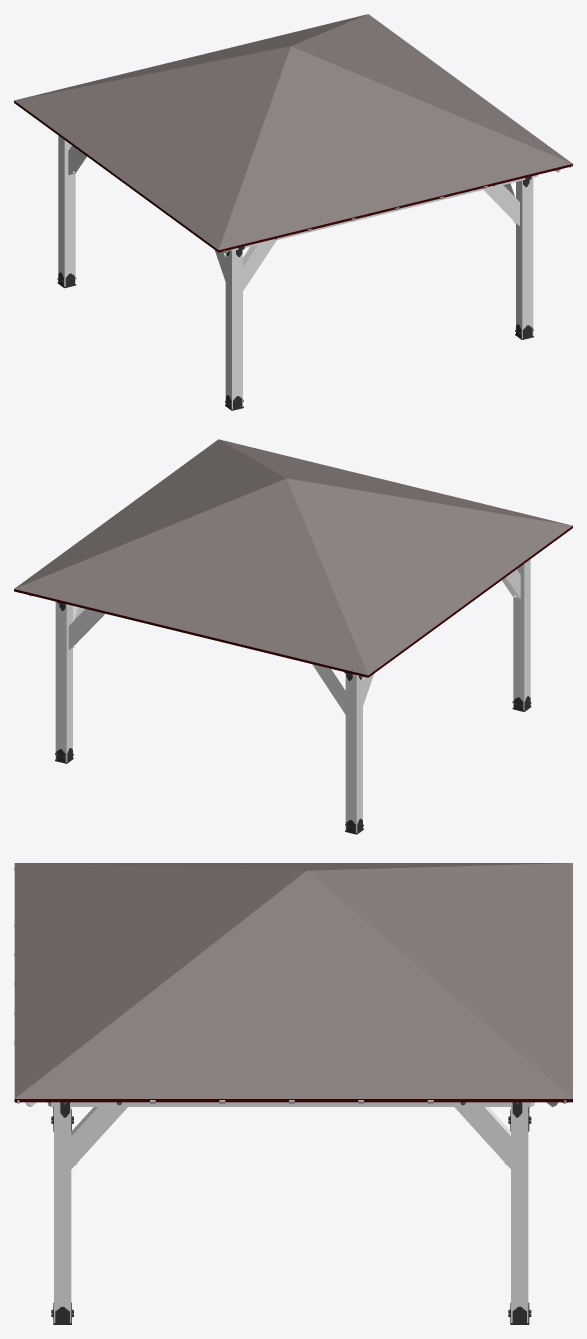
The model's file is saratoga-16x16-cove.obj.
3 views of the same model, one above another, from view 1: azimuth 30°, elevation 25°; view 2: azimuth 150°, elevation 25°; view 3: azimuth 270°, elevation 25° (orthographic). The views are drawn at different scales.
Parts seen in each view (by area): view 1: Mesh226 shingles roof Group1 Model, Mesh177 Group71 Component_92_4 Group2 Group1 Model, Mesh79 Group43 Component_92_2 Group2 Group1 Model, Mesh128 Group57 Component_92_3 Group2 Group1 Model, Mesh227 roof Group1 Model, Mesh75 Component_135_1 Group2 Group1 Model, Mesh217 Component_91_7 Component_92_4 Group2 Group1 Model, Mesh119 Component_91_3 Component_92_2 Group2 Group1 Model; view 2: Mesh226 shingles roof Group1 Model, Mesh128 Group57 Component_92_3 Group2 Group1 Model, Mesh1 Group4 Component_92_1 Group3 Group2 Group1 Model, Mesh177 Group71 Component_92_4 Group2 Group1 Model, Mesh227 roof Group1 Model, Mesh168 Component_91_5 Component_92_3 Group2 Group1 Model, Mesh41 Component_91_1 Component_92_1 Group3 Group2 Group1 Model; view 3: Mesh226 shingles roof Group1 Model, Mesh79 Group43 Component_92_2 Group2 Group1 Model, Mesh1 Group4 Component_92_1 Group3 Group2 Group1 Model, Mesh78 Component_134_2 Group2 Group1 Model, Mesh227 roof Group1 Model, Mesh123 Component_91_4 Component_92_2 Group2 Group1 Model, Mesh45 Component_91_2 Component_92_1 Group3 Group2 Group1 Model.
Boxes of the visible parts, x1,y1,x2,y2 form: Mesh226 shingles roof Group1 Model: (14, 14, 572, 250); Mesh177 Group71 Component_92_4 Group2 Group1 Model: (225, 249, 242, 409); Mesh79 Group43 Component_92_2 Group2 Group1 Model: (516, 178, 533, 338); Mesh128 Group57 Component_92_3 Group2 Group1 Model: (58, 135, 75, 286); Mesh227 roof Group1 Model: (14, 101, 572, 252); Mesh75 Component_135_1 Group2 Group1 Model: (229, 175, 537, 251); Mesh217 Component_91_7 Component_92_4 Group2 Group1 Model: (243, 240, 276, 290); Mesh119 Component_91_3 Component_92_2 Group2 Group1 Model: (484, 185, 519, 225); Mesh226 shingles roof Group1 Model: (14, 439, 572, 675); Mesh128 Group57 Component_92_3 Group2 Group1 Model: (345, 673, 362, 833); Mesh1 Group4 Component_92_1 Group3 Group2 Group1 Model: (55, 602, 72, 762); Mesh177 Group71 Component_92_4 Group2 Group1 Model: (513, 559, 530, 710); Mesh227 roof Group1 Model: (14, 526, 572, 677); Mesh168 Component_91_5 Component_92_3 Group2 Group1 Model: (312, 664, 345, 714); Mesh41 Component_91_1 Component_92_1 Group3 Group2 Group1 Model: (68, 609, 104, 649); Mesh226 shingles roof Group1 Model: (14, 863, 572, 1098); Mesh79 Group43 Component_92_2 Group2 Group1 Model: (54, 1107, 71, 1322); Mesh1 Group4 Component_92_1 Group3 Group2 Group1 Model: (511, 1107, 528, 1322); Mesh78 Component_134_2 Group2 Group1 Model: (59, 1102, 522, 1106); Mesh227 roof Group1 Model: (14, 1099, 572, 1102); Mesh123 Component_91_4 Component_92_2 Group2 Group1 Model: (71, 1107, 127, 1168); Mesh45 Component_91_2 Component_92_1 Group3 Group2 Group1 Model: (454, 1107, 510, 1168).
Bounding box in the file's own units: 193 × 135 × 193.
